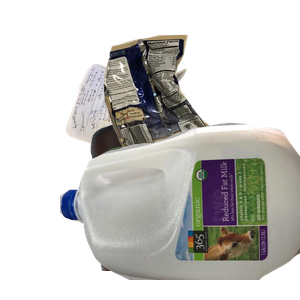glass: (88, 120, 252, 300)
paper: (63, 61, 242, 206)
plastic: (60, 120, 300, 300)
trash: (101, 32, 300, 195)
